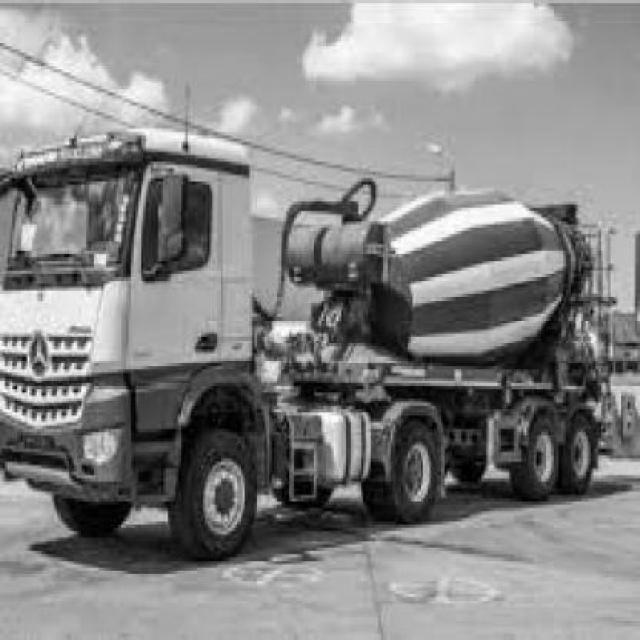Concrete Mixer: (0, 130, 609, 564)
